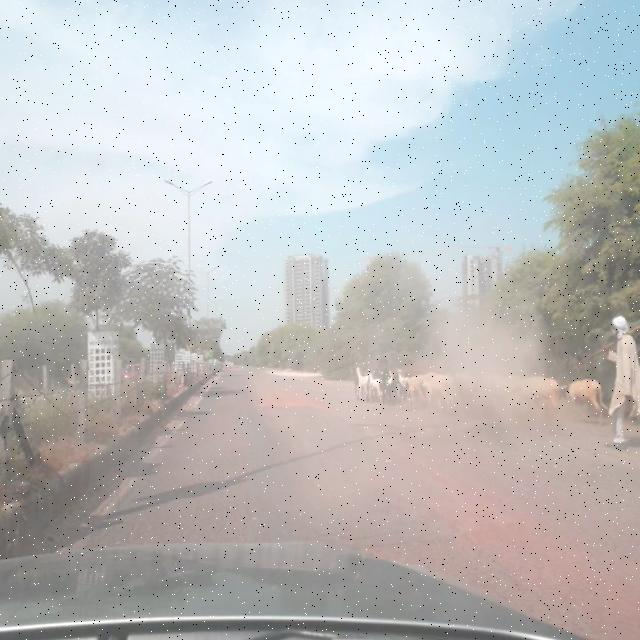D20: (412, 470, 631, 632), (93, 442, 311, 546)
D40: (317, 510, 524, 564), (247, 381, 329, 419)
